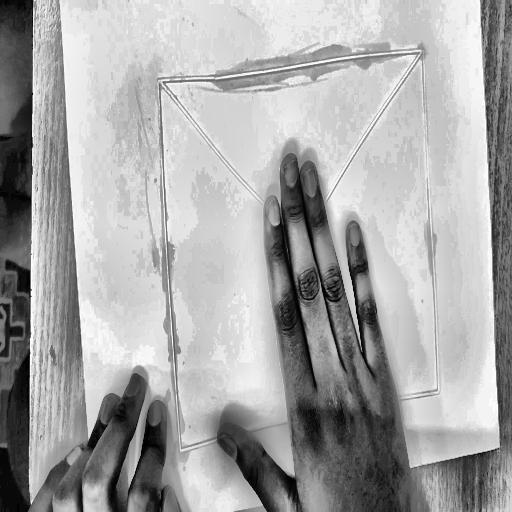bottom_right: (497, 441, 503, 451)
envelop: (149, 39, 454, 461)
